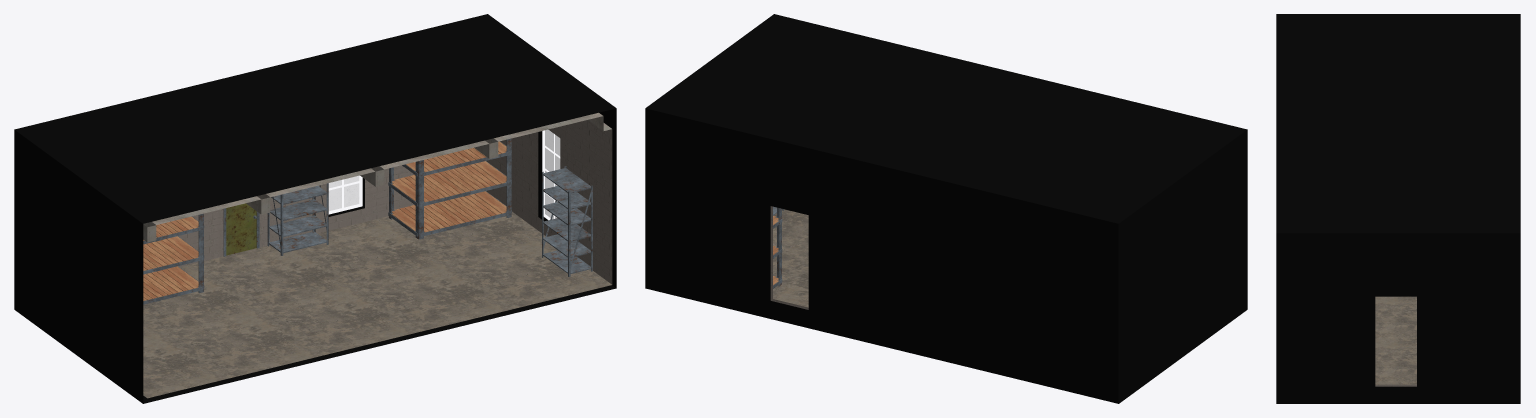
Rendered from warehousecompressed2.glb.
The picture shows the model from 3 angles, left to right: view 1: azimuth 30°, elevation 25°; view 2: azimuth 150°, elevation 25°; view 3: azimuth 270°, elevation 25°; orthographic projection. The views are drawn at different scales.
Parts seen in each view (by area): view 1: building, floor, wall, MIddleRack, material, roof, door, Benda, window2, RightRack, Right2Rack; view 2: building, floor; view 3: building, floor.
Part boxes in pixels (box(x1,y1,x2,y2)): building: box(14, 14, 616, 403); floor: box(143, 211, 611, 398); wall: box(178, 120, 612, 284); MIddleRack: box(143, 138, 592, 304); material: box(143, 141, 506, 300); roof: box(143, 112, 611, 242); door: box(226, 203, 256, 255); Benda: box(328, 176, 359, 210); window2: box(545, 129, 560, 219); RightRack: box(392, 153, 501, 230); Right2Rack: box(542, 172, 592, 276); building: box(645, 14, 1247, 403); floor: box(773, 209, 808, 307); building: box(1276, 14, 1520, 403); floor: box(1375, 296, 1416, 384).
Bounding box in the file's own units: 559 × 203 × 264.
11 materials, 7 textured.
